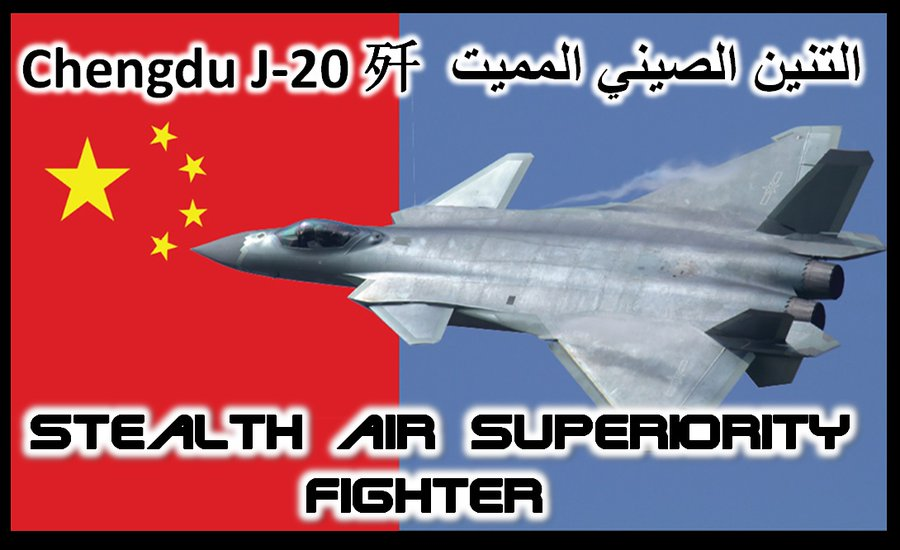J20: (188, 125, 887, 453)
